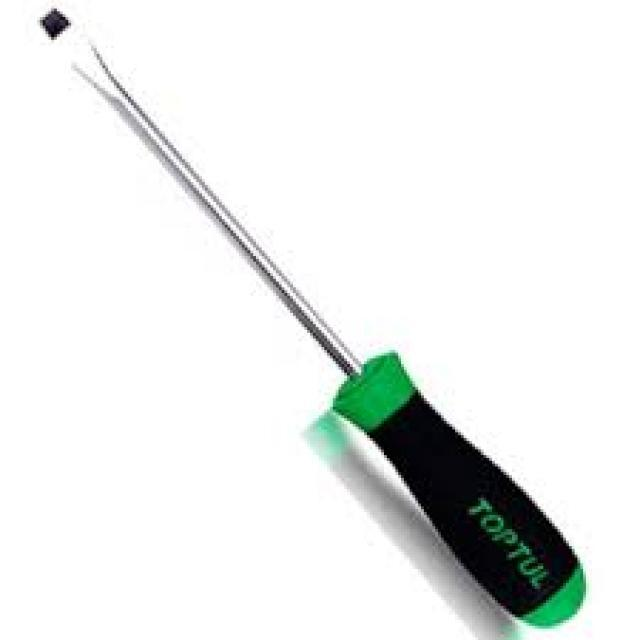screwdriver: (35, 3, 588, 626)
